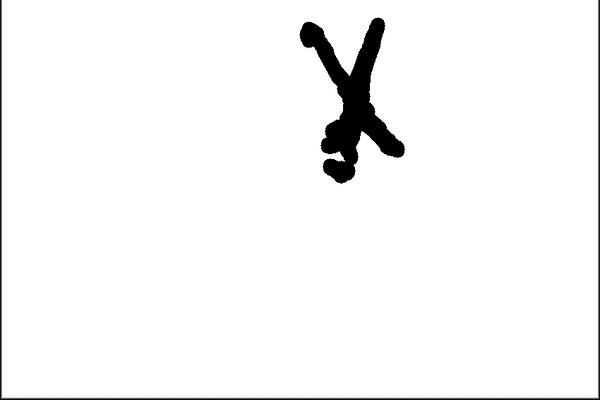X: (271, 6, 430, 192)
